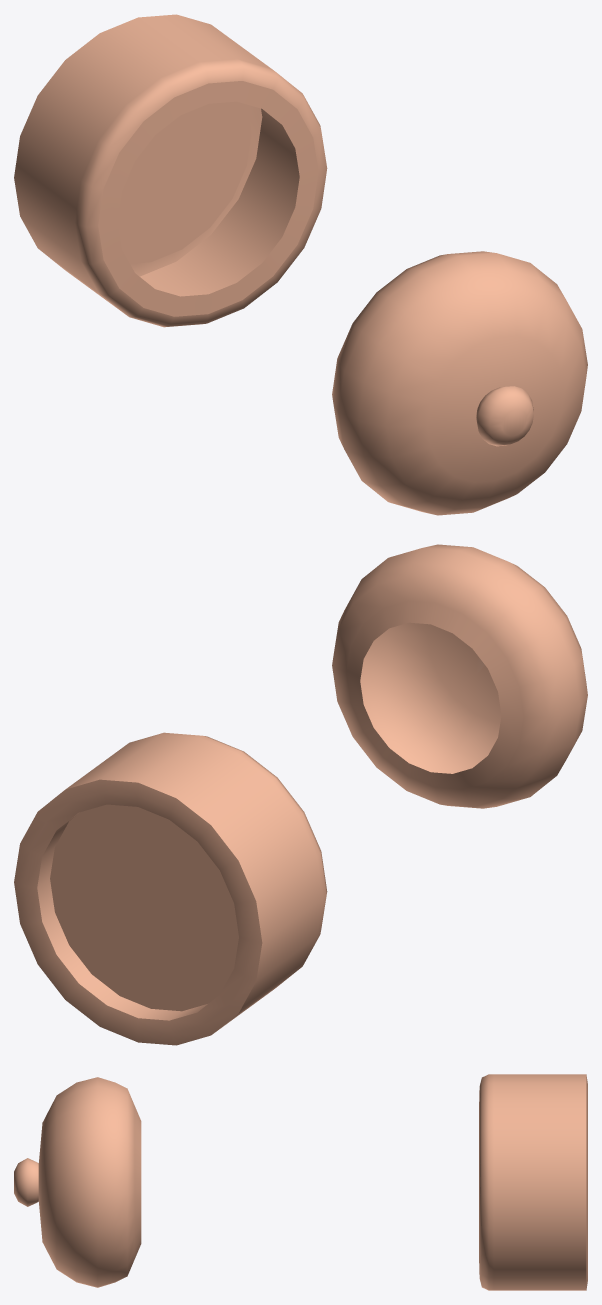
The model's file is PeppershakermeshSaltshaker_002_0_GeomSubset_1.obj.
The picture shows the model from 3 angles, top to bottom: view 1: azimuth 30°, elevation 25°; view 2: azimuth 150°, elevation 25°; view 3: azimuth 270°, elevation 25°; orthographic projection. The views are drawn at different scales.
Visible parts, largest first — view 1: PeppershakermeshSaltshaker_002_0_GeomSubset_1; view 2: PeppershakermeshSaltshaker_002_0_GeomSubset_1; view 3: PeppershakermeshSaltshaker_002_0_GeomSubset_1.
Boxes of the visible parts, <box> form: PeppershakermeshSaltshaker_002_0_GeomSubset_1: <box>14,14,587,515</box>; PeppershakermeshSaltshaker_002_0_GeomSubset_1: <box>14,544,587,1045</box>; PeppershakermeshSaltshaker_002_0_GeomSubset_1: <box>14,1074,587,1290</box>.
Bounding box in the file's own units: 0.0728 × 0.0728 × 0.1916.
